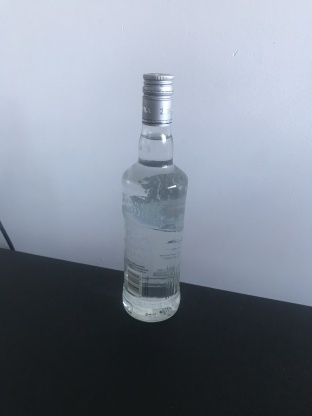nakretka: (140, 71, 175, 127)
